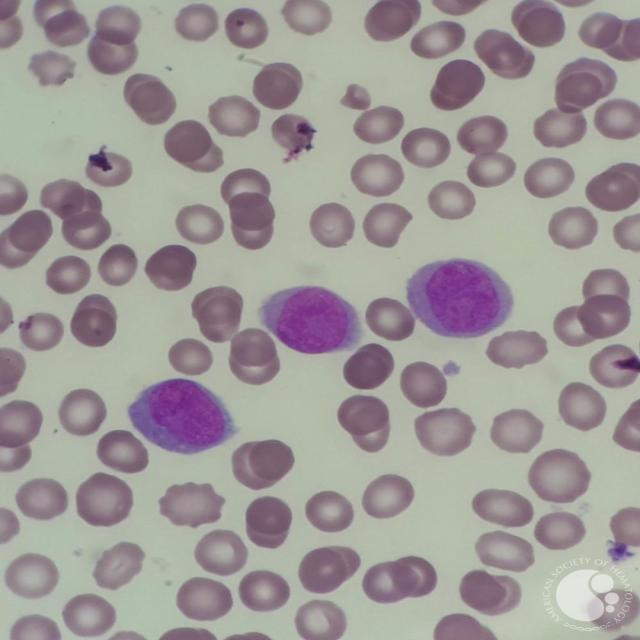ALL Positive Cell: (398, 257, 516, 338), (129, 378, 241, 453), (263, 284, 357, 353)
